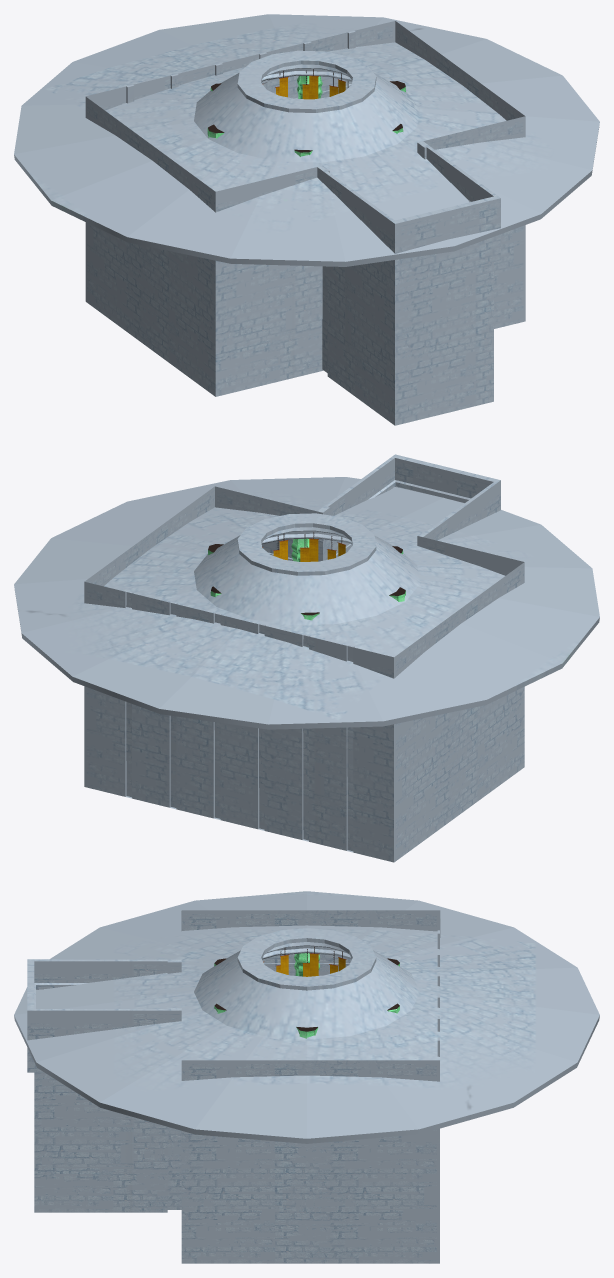
File: SM_backgroundfaceflipped.FBX
3 views of the same model, one above another, from view 1: azimuth 30°, elevation 25°; view 2: azimuth 150°, elevation 25°; view 3: azimuth 270°, elevation 25° (orthographic).
Visible parts, largest first — view 1: Cylinder008; view 2: Cylinder008; view 3: Cylinder008.
Boxes of the visible parts, x1=… form: Cylinder008: x1=14, y1=14, x2=599, y2=425; Cylinder008: x1=14, y1=454, x2=599, y2=862; Cylinder008: x1=14, y1=891, x2=599, y2=1263.
Size of the model in its own units: 9137 by 4014 by 9137.
